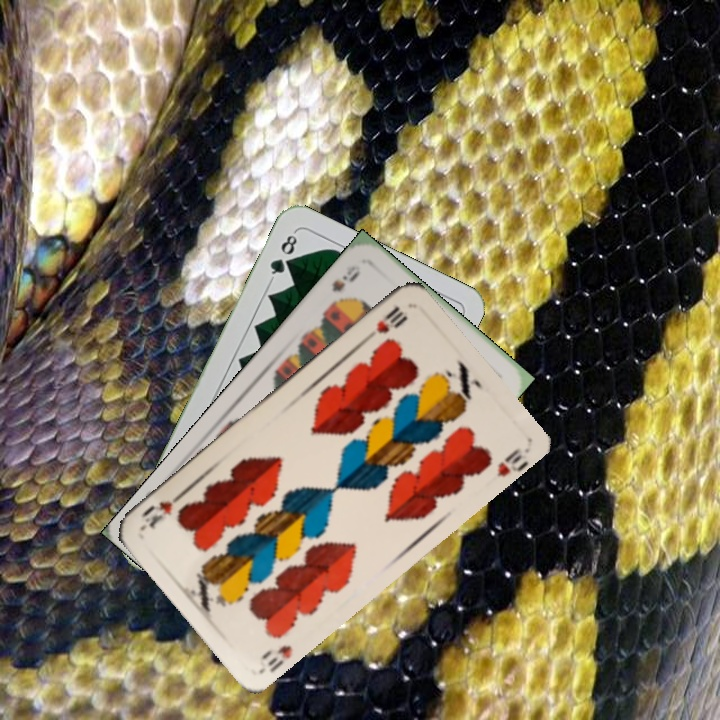G8: (266, 228, 300, 283)
H10: (360, 302, 410, 345), (263, 641, 295, 675)
S9: (324, 260, 363, 311)
